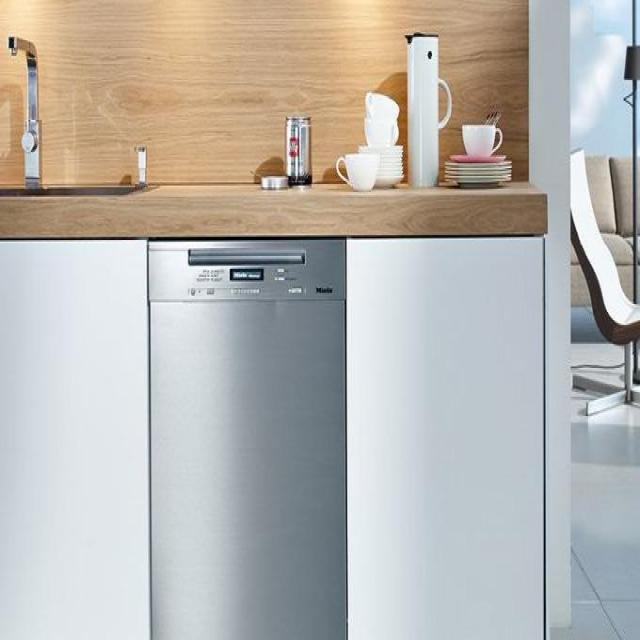dishwasher: (148, 234, 348, 638)
